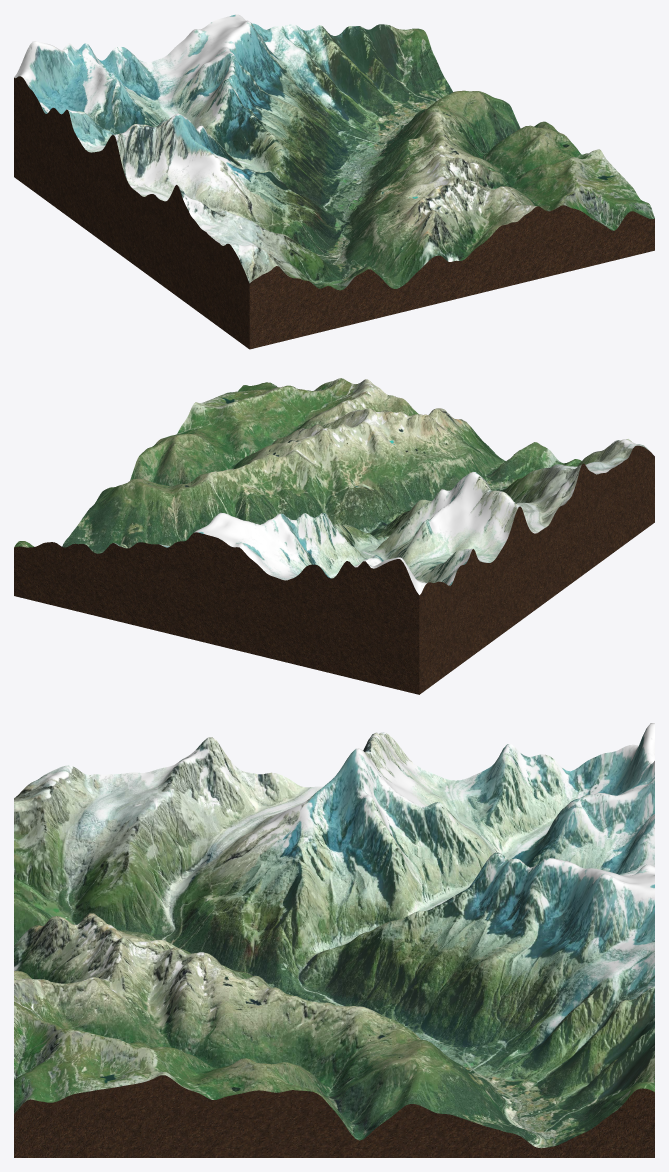
The model's file is valley_montblanc.glb.
The picture shows the model from 3 angles, top to bottom: view 1: azimuth 30°, elevation 25°; view 2: azimuth 150°, elevation 25°; view 3: azimuth 270°, elevation 25°; orthographic projection. The views are drawn at different scales.
Visible parts, largest first — view 1: mesh, sideE, sideN; view 2: mesh, sideS, sideE; view 3: mesh, sideW.
Part boxes in pixels (<box>): mesh: <box>14,14,654,290</box>; sideE: <box>14,76,249,349</box>; sideN: <box>249,205,654,349</box>; mesh: <box>14,378,649,594</box>; sideS: <box>14,532,419,694</box>; sideE: <box>419,445,654,694</box>; mesh: <box>14,723,654,1148</box>; sideW: <box>14,1075,654,1157</box>.
Size of the model in its own units: 29.8 by 9.22 by 30.
Materials: 3 (2 with a texture image).
